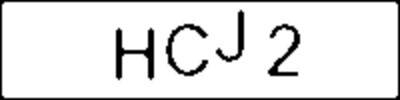2: (263, 22, 304, 80)
C: (162, 19, 212, 79)
H: (115, 24, 160, 83)
J: (214, 4, 248, 65)
